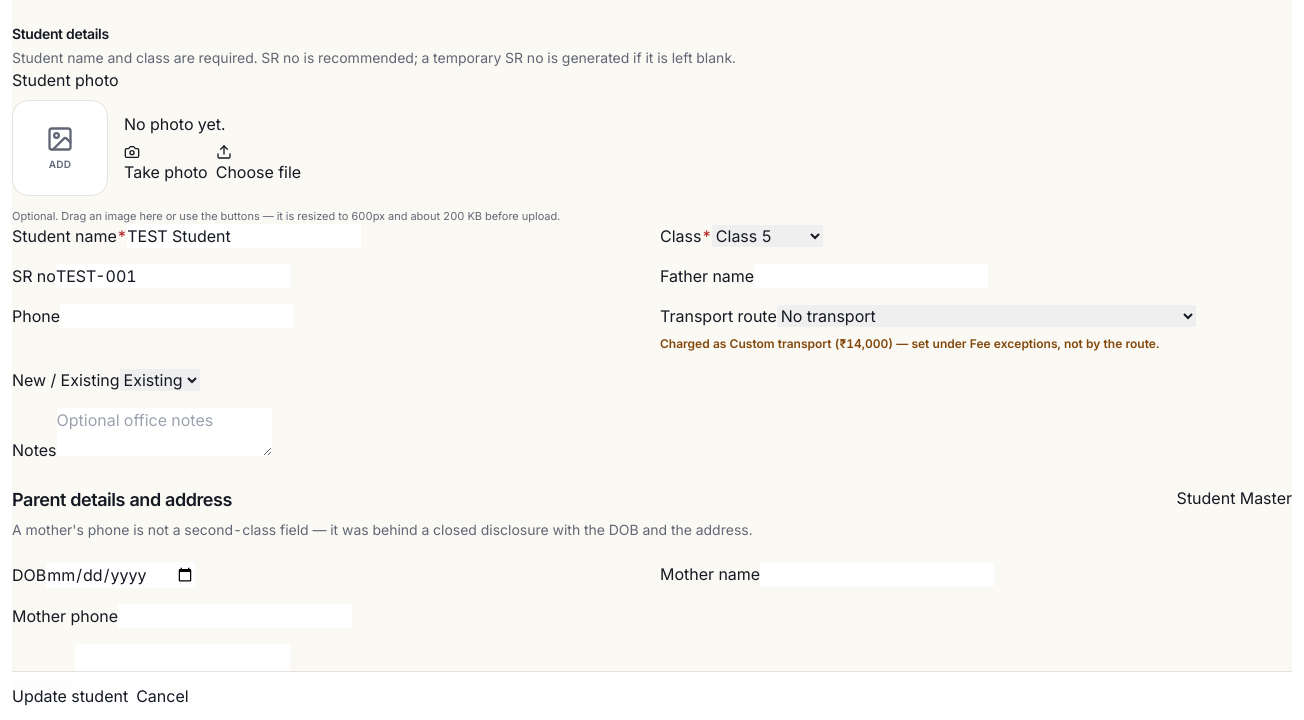
Test: student edit form — transport › prefers a real route over the override in the label
Step 1. Select "Bhilwara Road (BR1)" in the dropdown labelled "Transport route" → coordinates (986, 316), box 777,305 -> 1196,327
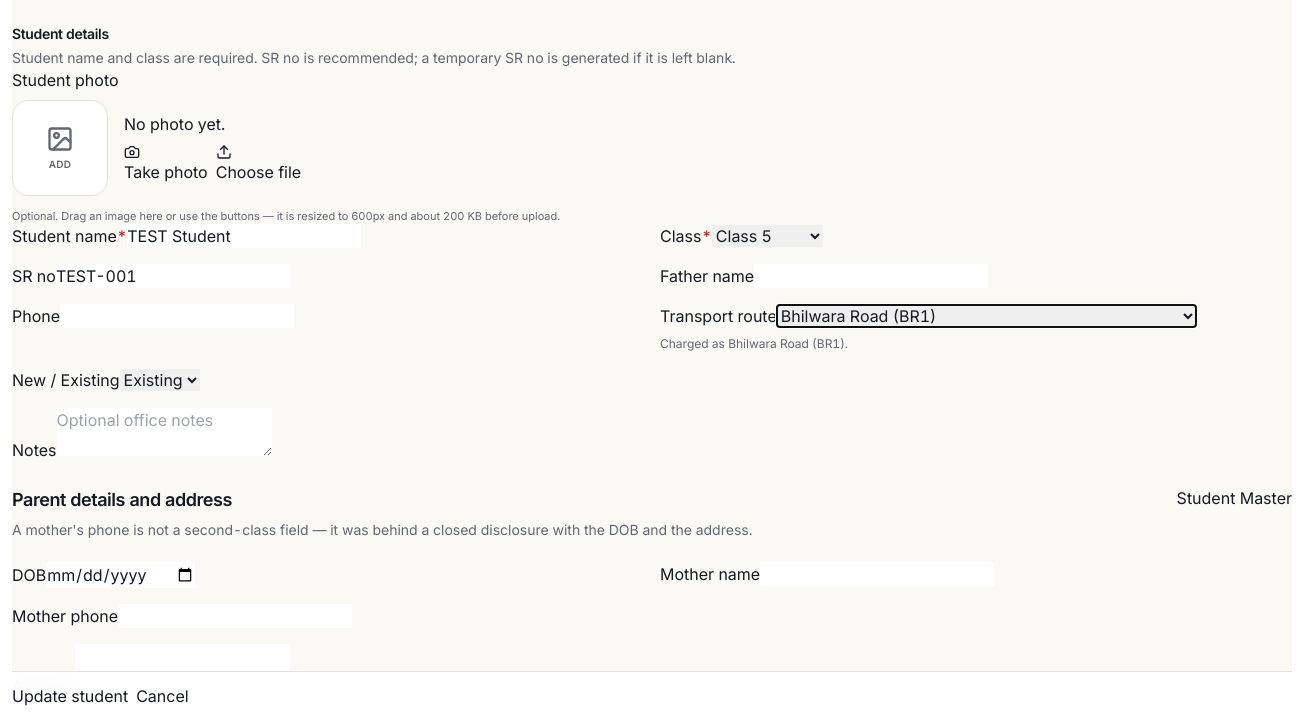
Result: the text "Charged as Bhilwara Road (BR1)." is shown at 660,336 -> 848,351
Result: the text "Custom transport" is gone
